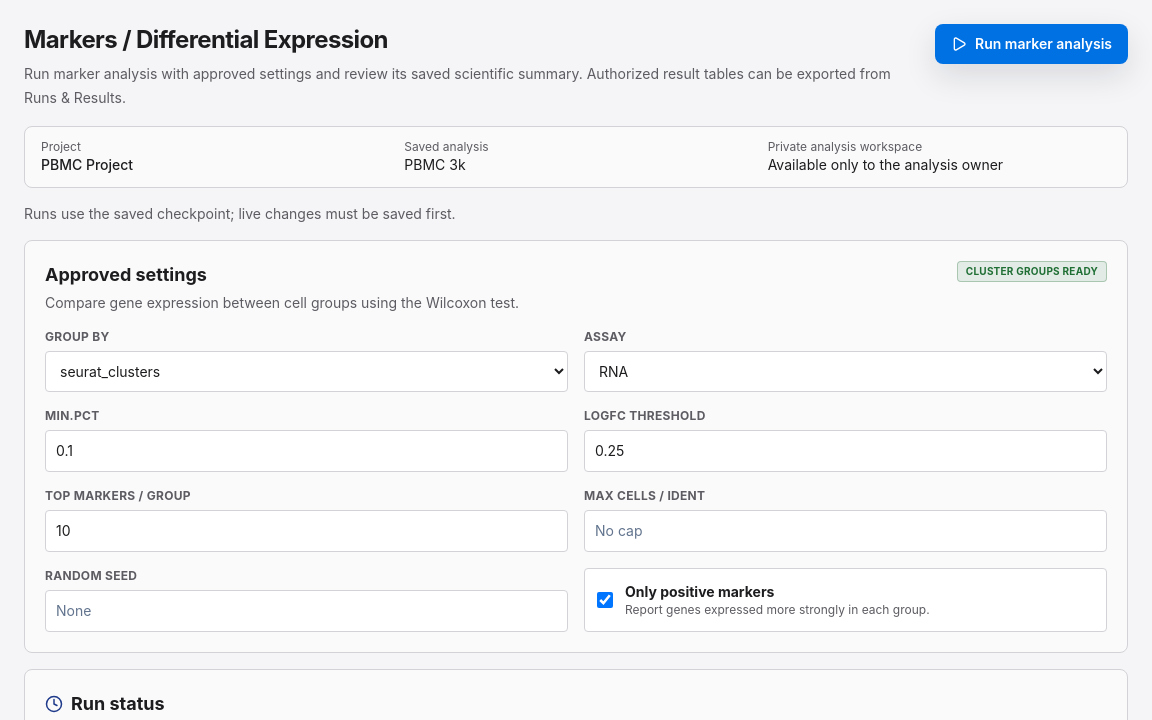
Test: DifferentialExpression durable worker UI › launches a durable DEG job instead of the legacy live-R endpoint
The width and height of the screenshot is (1152, 720).
Step 1. Click the button "Run marker analysis" → click(1032, 44), box [935, 24, 1128, 64]
(page scrolled)
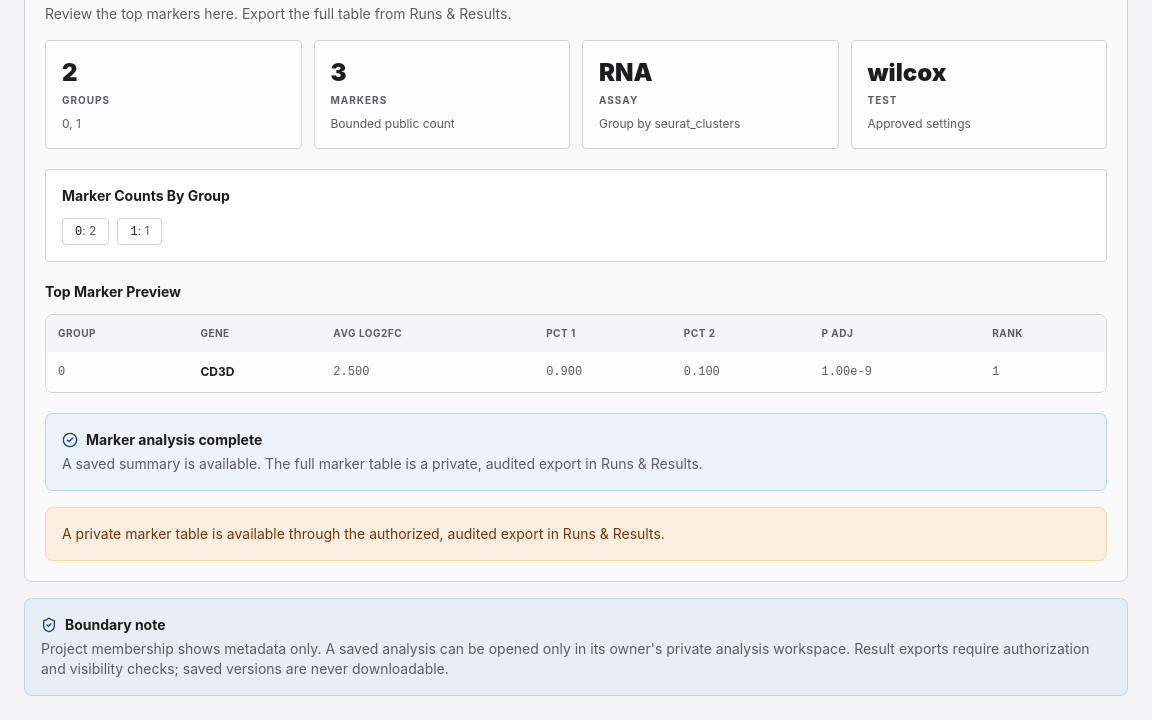
Expected: the text "CD3D" is shown, [188, 352, 321, 392]
Expected: the text "A saved summary is available" is shown, [62, 455, 703, 472]
Expected: the text "private marker table is available" is shown, [62, 525, 665, 542]
